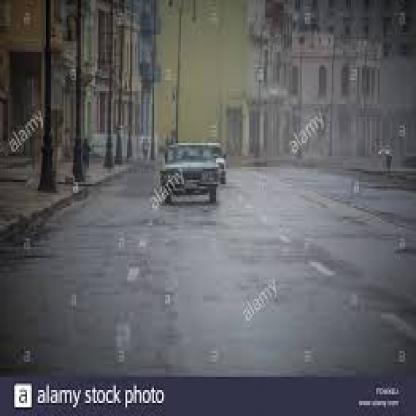car: (152, 135, 224, 212)
